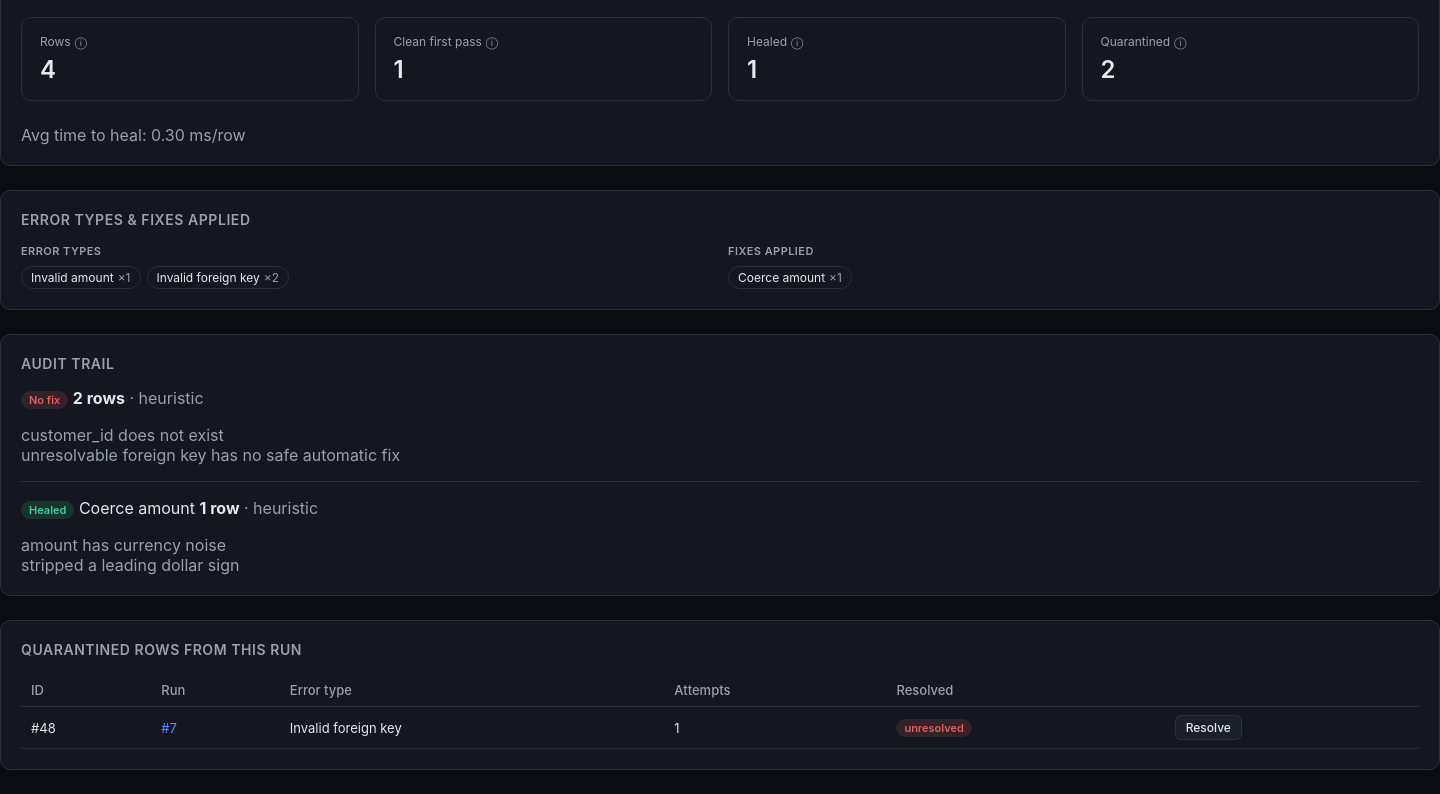
Test: RunDetail › shows an error toast instead of failing silently when resolving fails
The image size is (1440, 794).
(page scrolled)
Click the button "Resolve" at point(1208, 728), box [1175,715,1242,740]
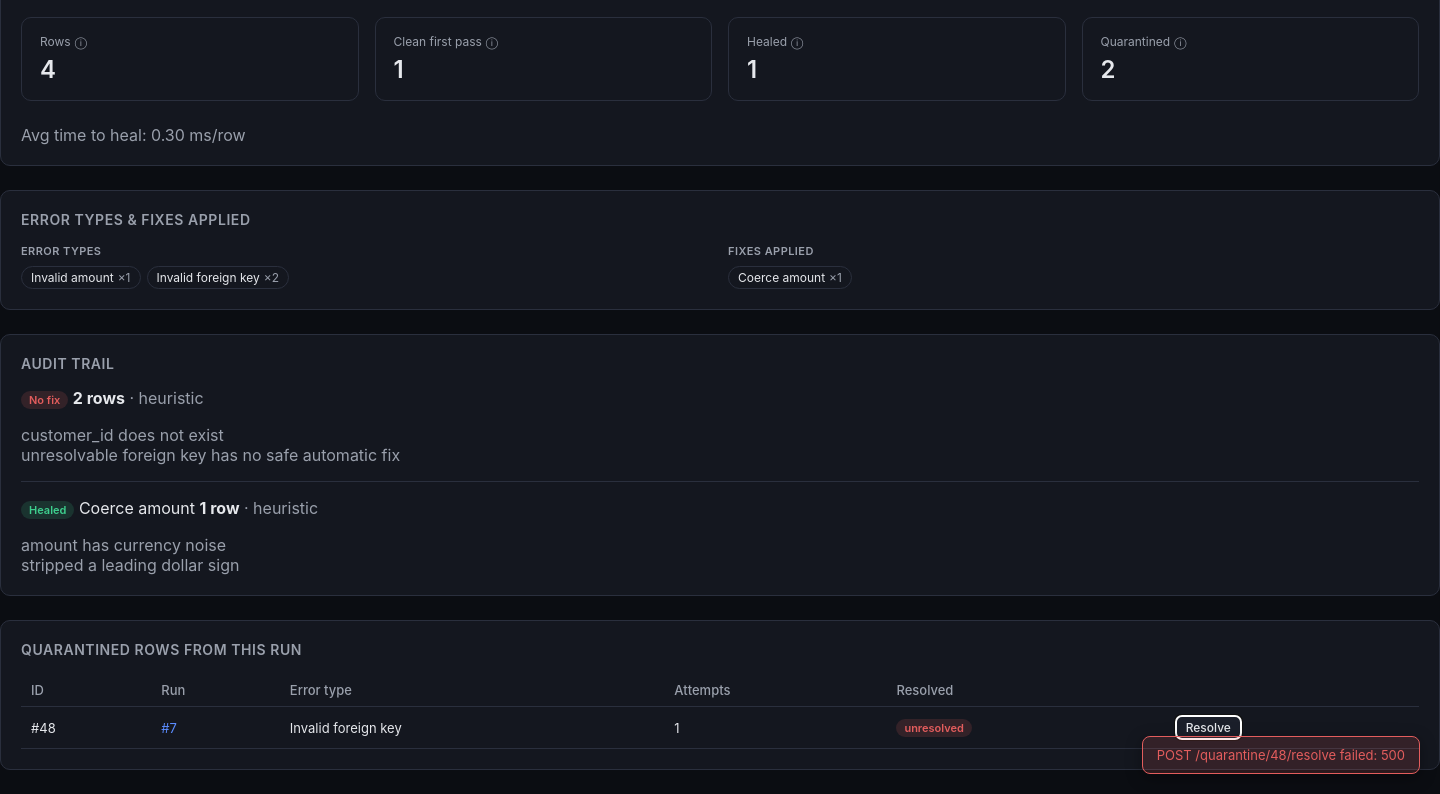
Expected: the text "POST /quarantine/48/resolve failed: 500" is shown, [1142,736,1420,774]
